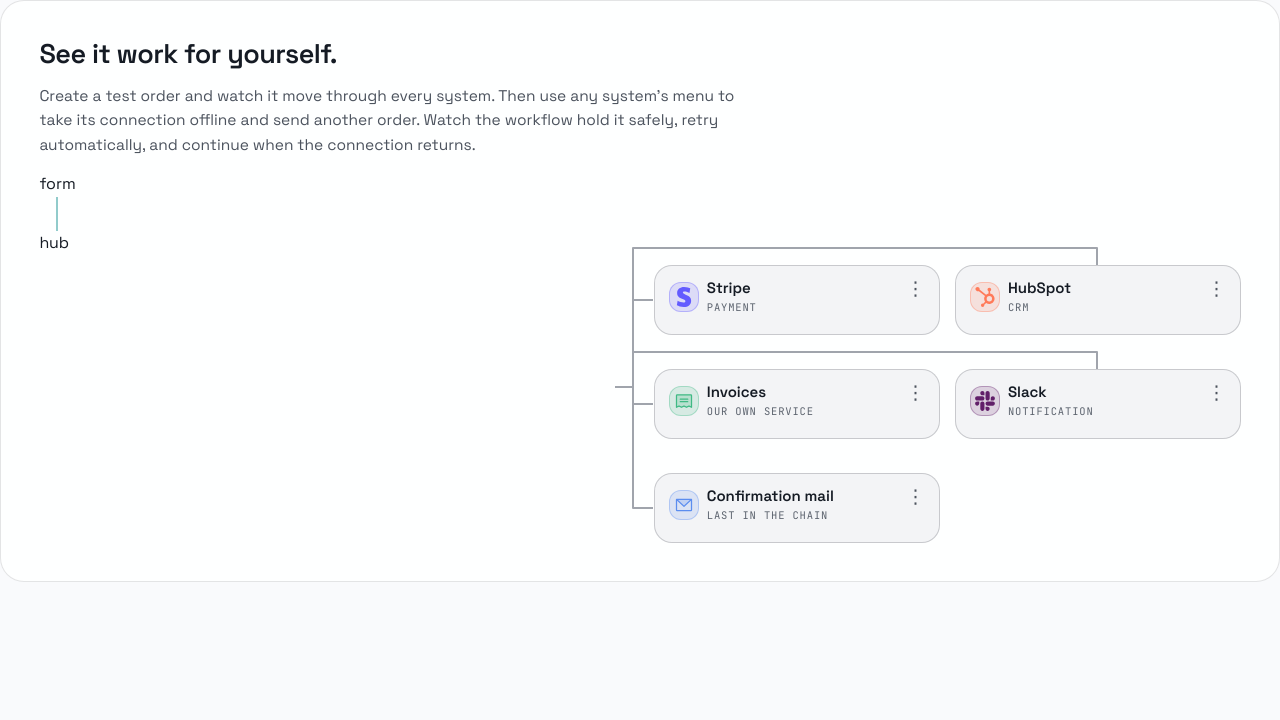
Test: Diagram › lets Invoices say that off means off, because it alone really stops
Click the button with test id "menu-ledger": [916, 393] box [900,378,930,408]
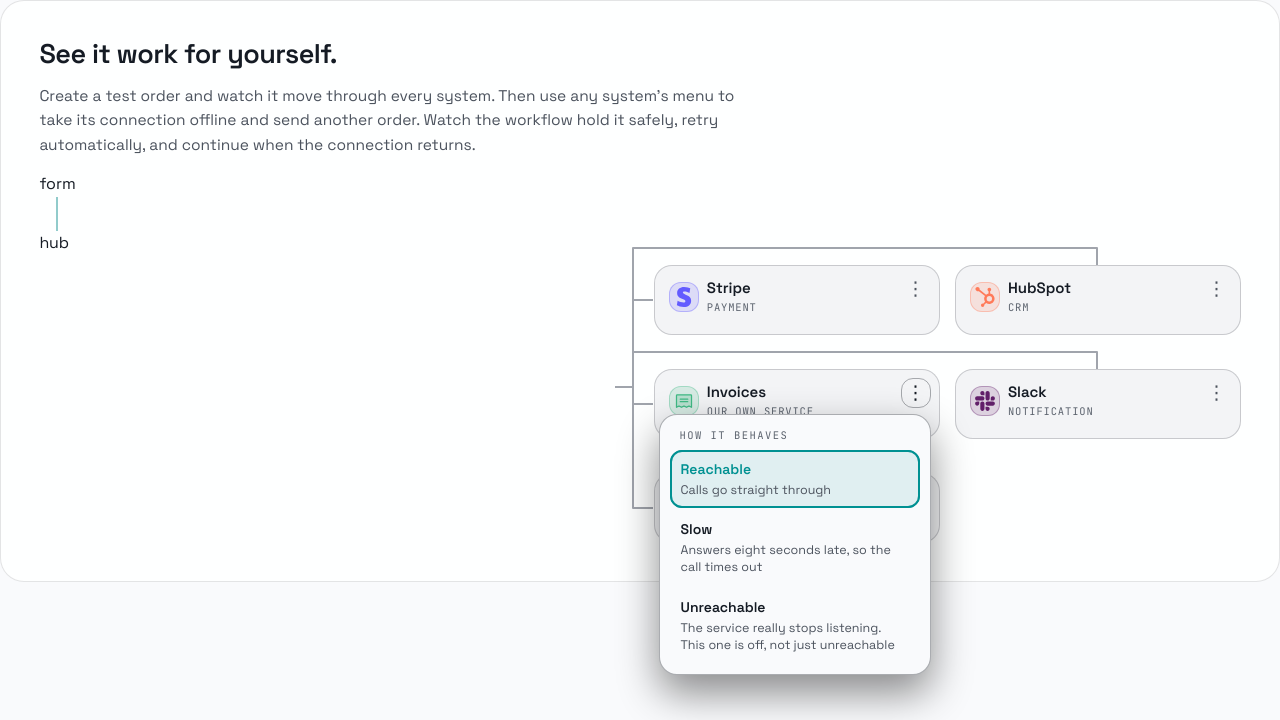
Now the menu item with test id "menu-ledger-cut" shows "really stops listening", box [670,588,920,664]
